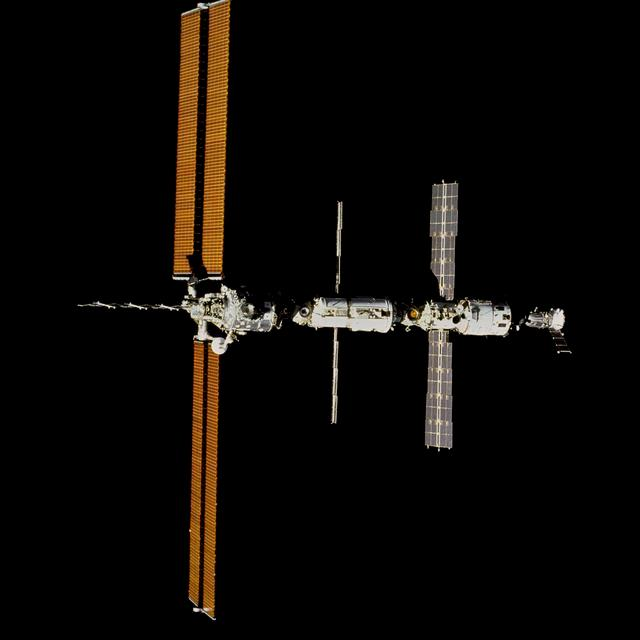medium_debris: (79, 0, 570, 617)
